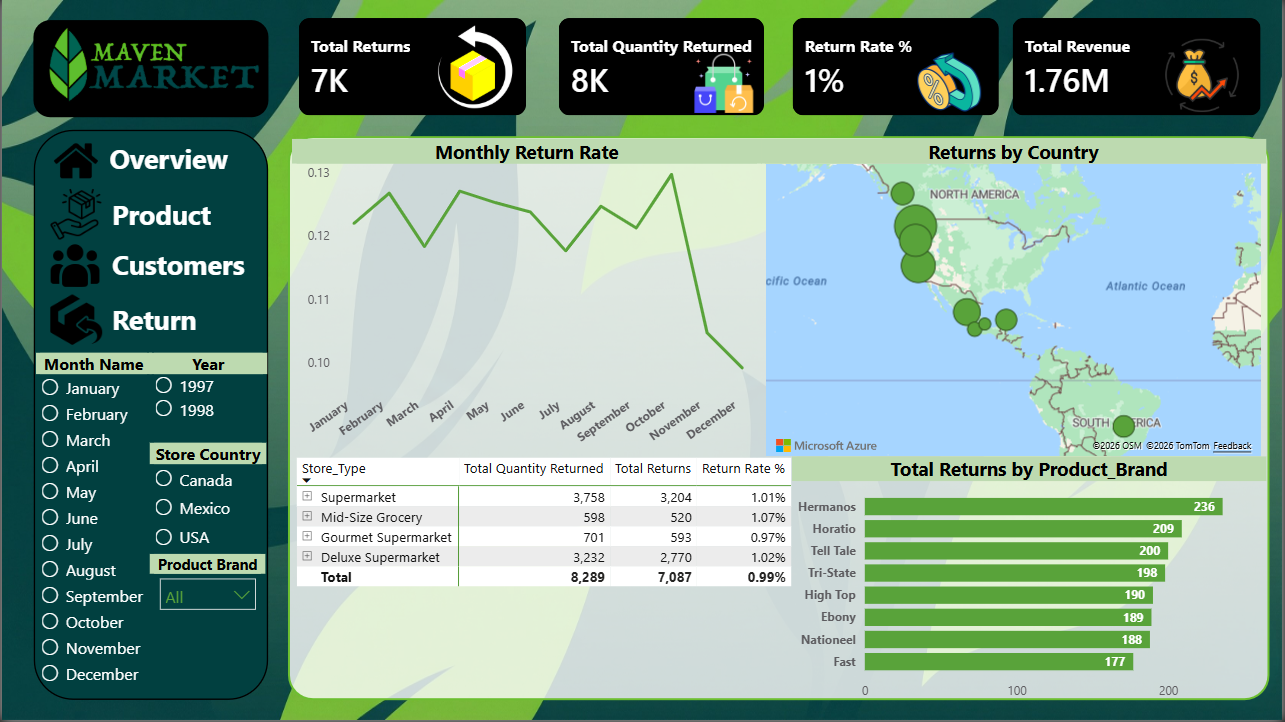

Layout of this report page (visuals, bound fields, positions):
{"tool":"powerbi","page":{"name":"Returns","canvas":[1280,720],"ordinal":3},"visuals":[{"type":"image","box":[41.2,17.5,220,93.8],"z":0},{"type":"image","box":[47.5,187.5,52.5,53.8],"z":0,"group":"g2"},{"type":"image","box":[46.2,241.2,53.8,48.8],"z":0,"group":"g3"},{"type":"image","box":[47.5,291.2,53.8,56.2],"z":0,"group":"g4"},{"type":"listSlicer","fields":{"Values":["Calendar.Month Name"]},"box":[33.6,353.1,115.9,336.1],"z":0,"group":"g9"},{"type":"group","id":"g1","title":"Group 1","box":[48.4,135.3,192.9,52.5],"z":1000},{"type":"image","box":[48.4,138.4,50,43.8],"z":1000,"group":"g1"},{"type":"textbox","box":[105,241.2,148.8,50],"z":1000,"group":"g3"},{"type":"textbox","box":[105,296.2,106.2,51.2],"z":1000,"group":"g4"},{"type":"slicer","title":"Product Brand","fields":{"Values":["Products.Product_Brand"]},"box":[147.7,553.8,116.2,110.8],"z":1000,"group":"g9"},{"type":"textbox","box":[102.5,135.3,138.8,52.5],"z":2000,"group":"g1"},{"type":"actionButton","box":[45,138.8,196.2,43.8],"z":2000},{"type":"listSlicer","fields":{"Values":["Calendar.Year"]},"box":[147.1,353,117.6,91.9],"z":2000,"group":"g9"},{"type":"textbox","box":[104.7,190.9,133.8,48.8],"z":2003,"group":"g2"},{"type":"group","id":"g2","title":"Group 2","box":[47.5,187.5,191.2,53.8],"z":3000},{"type":"listSlicer","title":"Store Country","fields":{"Values":["Stores.Store_Country"]},"box":[147.1,443.5,117.1,110],"z":3000,"group":"g9"},{"type":"actionButton","box":[48.8,187.5,196.2,53.8],"z":4000},{"type":"group","id":"g3","title":"Group 3","box":[46.2,241.2,207.5,50],"z":5000},{"type":"actionButton","box":[45,241.2,208.8,50],"z":6000},{"type":"group","id":"g4","title":"Group 4","box":[47.5,291.2,163.8,56.2],"z":7000},{"type":"actionButton","box":[46.2,291.2,208.8,56.2],"z":8000},{"type":"group","id":"g5","title":"Group 5","box":[994.1,0.9,282.7,131.4],"z":9000},{"type":"cardVisual","fields":{"Data":["All Measures.Total Revenue"]},"box":[994.1,0.9,282.9,131.4],"z":9000,"group":"g5"},{"type":"cardVisual","fields":{"Data":["select","All Measures.Total Quantity Returned"]},"box":[540,1,240,131.4],"z":9000,"group":"g7"},{"type":"cardVisual","fields":{"Data":["All Measures.Return Rate %"]},"box":[774.1,0.9,240,131.4],"z":10000,"group":"g8"},{"type":"group","id":"g6","title":"Group 6","box":[279.5,1,261,131],"z":10000},{"type":"cardVisual","fields":{"Data":["All Measures.Total Returns"]},"box":[279.5,1,261,131],"z":10000,"group":"g6"},{"type":"group","id":"g7","title":"Group 7","box":[540,1,240,131.4],"z":11000},{"type":"group","id":"g8","title":"Group 8","box":[774.1,0.9,239.1,131.8],"z":12000},{"type":"image","box":[1140.7,36.2,119.9,78.6],"z":12001,"group":"g5"},{"type":"image","box":[430.2,18.1,83.8,96.2],"z":12003,"group":"g6"},{"type":"image","box":[684.4,53.8,73.9,58.9],"z":13000,"group":"g7"},{"type":"azureMap","title":"Returns by Country","fields":{"Category":["Stores.Store_State"],"Size":["All Measures.Total Returns"]},"box":[759.2,138.5,505.4,317.7],"z":13000},{"type":"image","box":[899.8,49.1,94.3,64.3],"z":13002,"group":"g8"},{"type":"lineChart","title":"Monthly Return Rate","fields":{"Category":["Calendar.Month Name"],"Y":["All Measures.Return Rate %"]},"box":[289.5,138.6,469.5,319.1],"z":14000},{"type":"group","id":"g9","title":"Group 9","box":[33.6,353,231.1,336.1],"z":15000},{"type":"pivotTable","fields":{"Rows":["Stores.Store_Type","Stores.Store_Name","Products.Product_Name"],"Values":["All Measures.Total Quantity Returned","All Measures.Total Returns","All Measures.Return Rate %"]},"box":[289.5,457.2,506.7,232.8],"z":16000},{"type":"clusteredBarChart","fields":{"Category":["Products.Product_Brand"],"Y":["All Measures.Total Returns"]},"box":[790.2,456,474.1,247.3],"z":17000}]}

Visuals, with their boxes in screenshot pixels (x1, y1, x2, y2), scaled from the page's 1280x720 canvas onto the 1285x722 screenshot:
image: [left=41, top=18, right=262, bottom=112]
image: [left=48, top=188, right=100, bottom=242]
image: [left=46, top=242, right=100, bottom=291]
image: [left=48, top=292, right=102, bottom=348]
listSlicer - Calendar.Month Name: [left=34, top=354, right=150, bottom=691]
"Group 1" group: [left=49, top=136, right=242, bottom=188]
image: [left=49, top=139, right=99, bottom=183]
textbox: [left=105, top=242, right=255, bottom=292]
textbox: [left=105, top=297, right=212, bottom=348]
"Product Brand" slicer: [left=148, top=555, right=265, bottom=666]
textbox: [left=103, top=136, right=242, bottom=188]
actionButton: [left=45, top=139, right=242, bottom=183]
listSlicer - Calendar.Year: [left=148, top=354, right=266, bottom=446]
textbox: [left=105, top=191, right=239, bottom=240]
"Group 2" group: [left=48, top=188, right=240, bottom=242]
"Store Country" listSlicer: [left=148, top=445, right=265, bottom=555]
actionButton: [left=49, top=188, right=246, bottom=242]
"Group 3" group: [left=46, top=242, right=255, bottom=292]
actionButton: [left=45, top=242, right=255, bottom=292]
"Group 4" group: [left=48, top=292, right=212, bottom=348]
actionButton: [left=46, top=292, right=256, bottom=348]
"Group 5" group: [left=998, top=1, right=1282, bottom=133]
cardVisual - All Measures.Total Revenue: [left=998, top=1, right=1282, bottom=133]
cardVisual - select x All Measures.Total Quantity Returned: [left=542, top=1, right=783, bottom=133]
cardVisual - All Measures.Return Rate %: [left=777, top=1, right=1018, bottom=133]
"Group 6" group: [left=281, top=1, right=543, bottom=132]
cardVisual - All Measures.Total Returns: [left=281, top=1, right=543, bottom=132]
"Group 7" group: [left=542, top=1, right=783, bottom=133]
"Group 8" group: [left=777, top=1, right=1017, bottom=133]
image: [left=1145, top=36, right=1266, bottom=115]
image: [left=432, top=18, right=516, bottom=115]
image: [left=687, top=54, right=761, bottom=113]
"Returns by Country" azureMap: [left=762, top=139, right=1270, bottom=457]
image: [left=903, top=49, right=998, bottom=114]
"Monthly Return Rate" lineChart: [left=291, top=139, right=762, bottom=459]
"Group 9" group: [left=34, top=354, right=266, bottom=691]
pivotTable - Stores.Store_Type x Stores.Store_Name: [left=291, top=458, right=799, bottom=692]
clusteredBarChart - Products.Product_Brand x All Measures.Total Returns: [left=793, top=457, right=1269, bottom=705]
